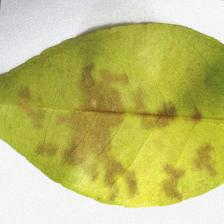canker: (50, 64, 217, 198)
